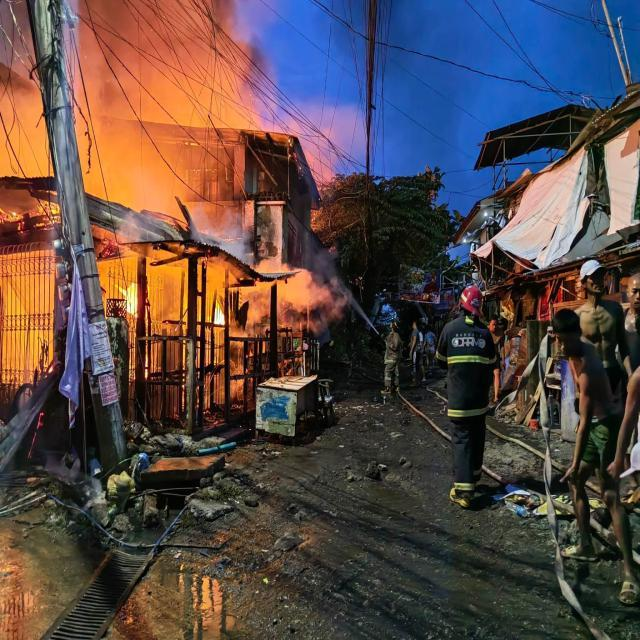Smoke: (92, 0, 278, 133), (246, 262, 334, 334)
